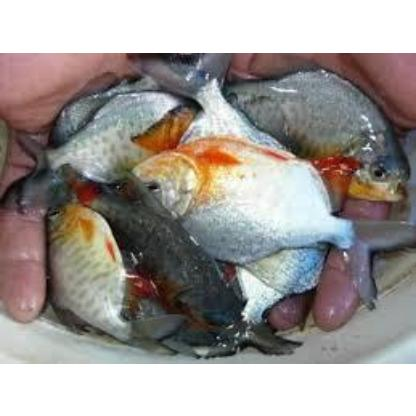ikan-pacu: (126, 136, 360, 256), (231, 63, 409, 201)
